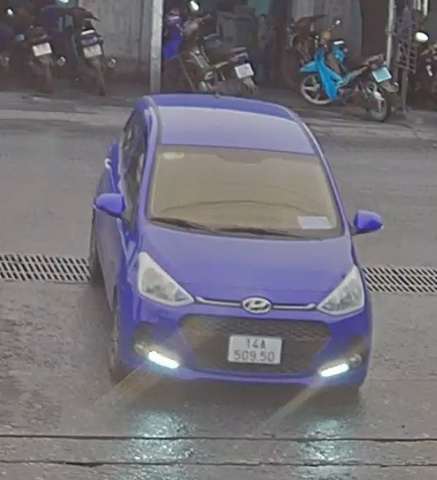vehicle plate: (218, 327, 286, 372)
